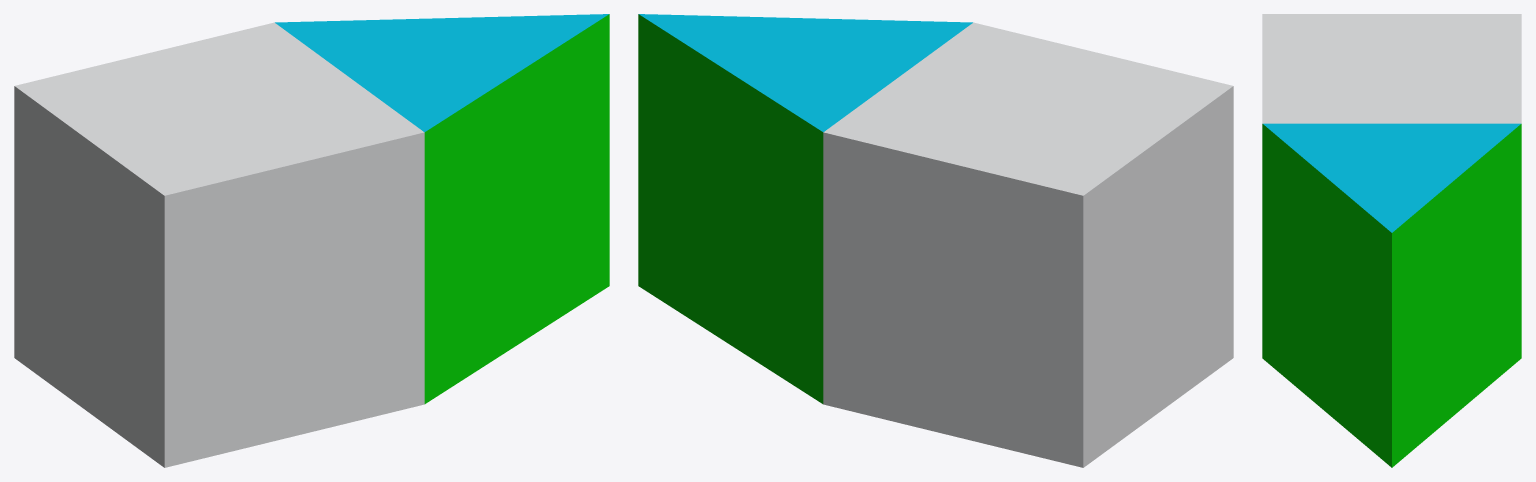
Rendered from arrow.glb.
The picture shows the model from 3 angles, left to right: view 1: azimuth 30°, elevation 25°; view 2: azimuth 150°, elevation 25°; view 3: azimuth 270°, elevation 25°; orthographic projection. The views are drawn at different scales.
Parts seen in each view (by area): view 1: Root Node; view 2: Root Node; view 3: Root Node.
Part boxes in pixels (bbox=[...]): Root Node: bbox=[14, 14, 609, 467]; Root Node: bbox=[638, 14, 1233, 467]; Root Node: bbox=[1262, 14, 1521, 467].
Size of the model in its own units: 0.1 by 0.05 by 0.05.
